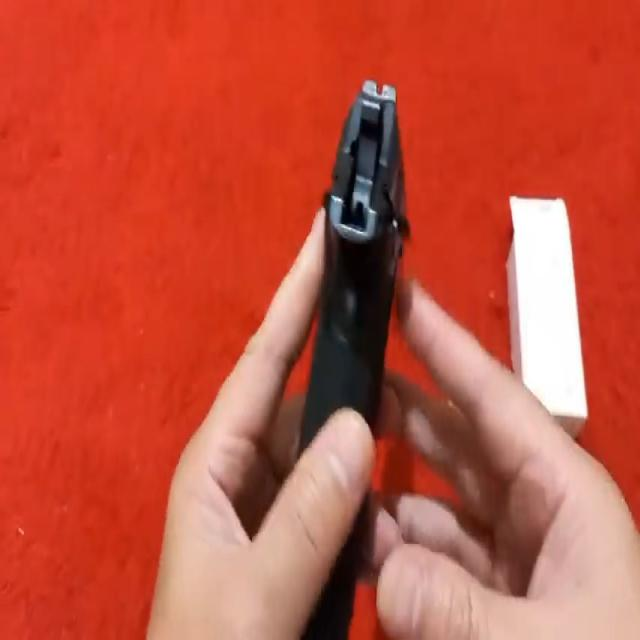handgun: (313, 67, 414, 468)
